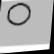no answer: (4, 0, 33, 27)
